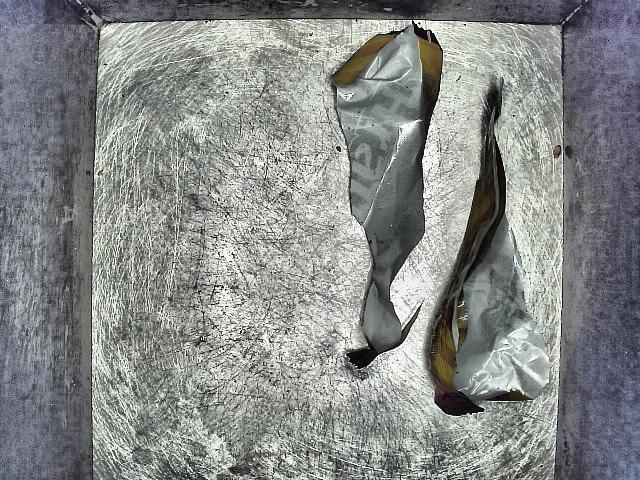Plastic: (418, 74, 545, 424), (326, 15, 438, 379)
